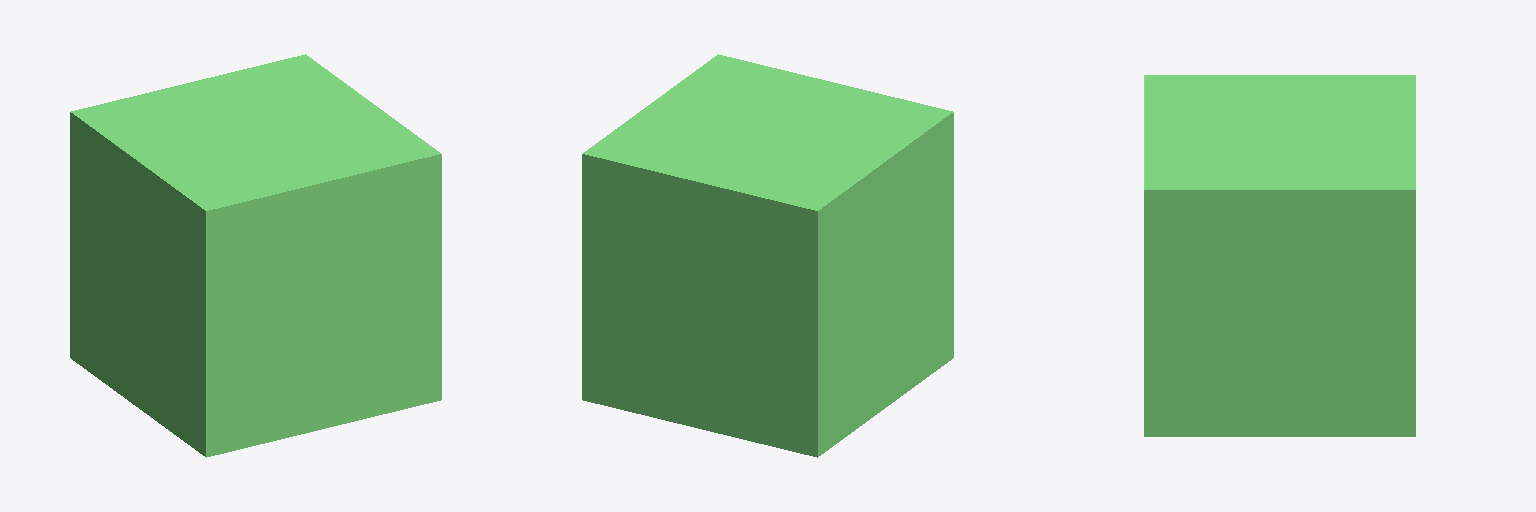
3 views of the same model, side by side, from view 1: azimuth 30°, elevation 25°; view 2: azimuth 150°, elevation 25°; view 3: azimuth 270°, elevation 25° (orthographic).
Visible parts, largest first — view 1: projectile; view 2: projectile; view 3: projectile.
Part boxes in pixels (left/top/right/bottom): projectile: left=70, top=54, right=441, bottom=457; projectile: left=582, top=54, right=953, bottom=457; projectile: left=1144, top=75, right=1415, bottom=436.
Bounding box in the file's own units: 1 × 1 × 1.
1 materials, 1 textured.